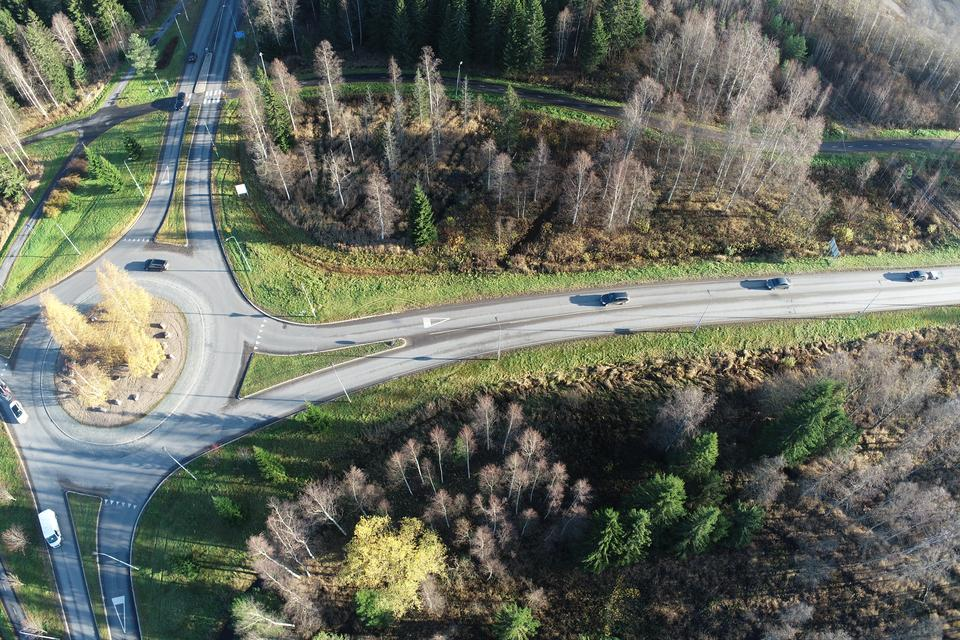intersection: (151, 74, 252, 121)
roundabout: (0, 163, 365, 581)
